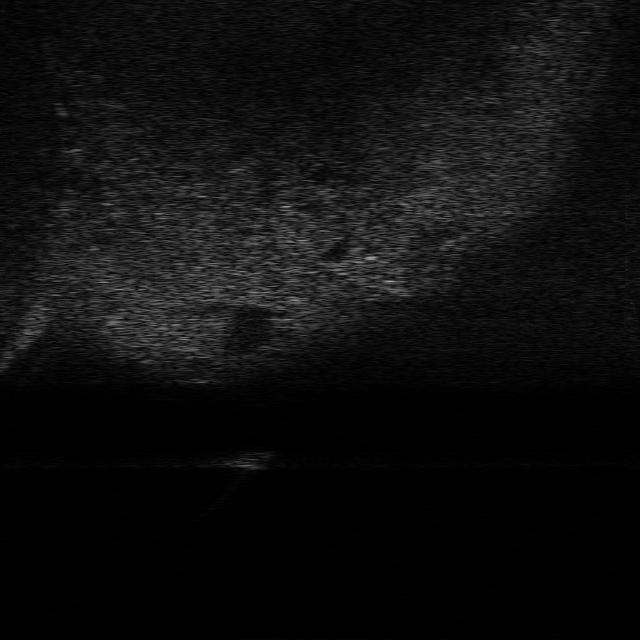cube: (224, 447, 274, 470)
